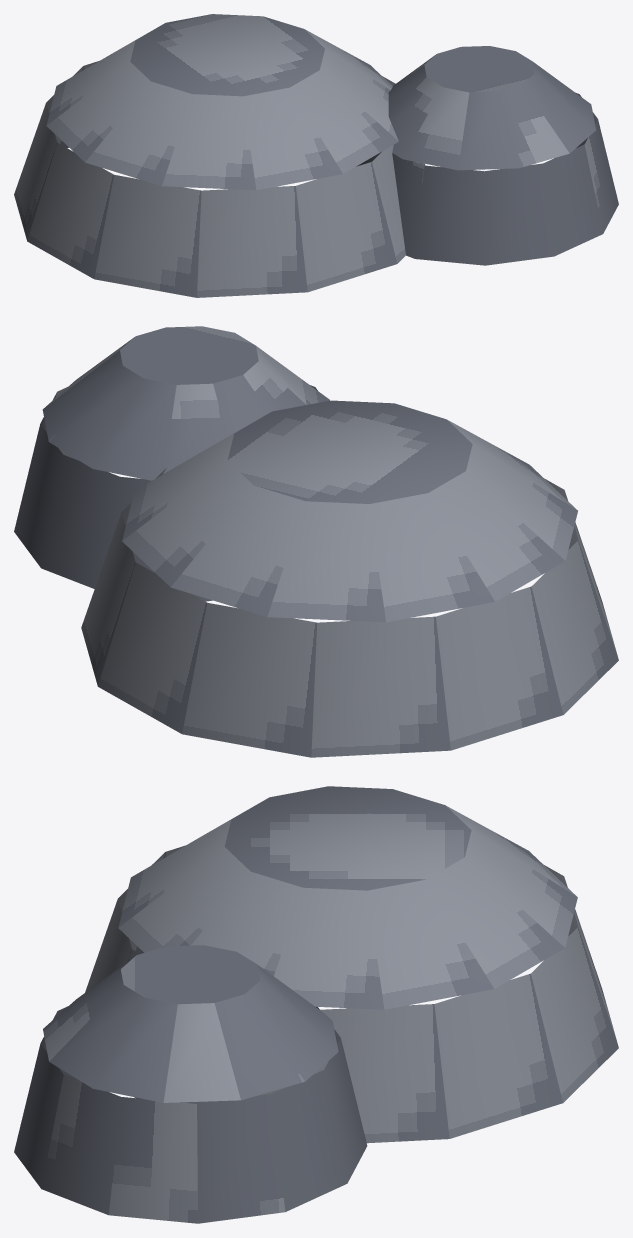
Rendered from rock_0.glb.
3 renders of one model, top to bottom at view 1: azimuth 30°, elevation 25°; view 2: azimuth 150°, elevation 25°; view 3: azimuth 270°, elevation 25°, orthographic. The views are drawn at different scales.
Parts seen in each view (by area): view 1: rock_1; view 2: rock_1; view 3: rock_1.
Part boxes in pixels (x1,y1,x2,y2): rock_1: (14, 14, 618, 297); rock_1: (14, 326, 618, 757); rock_1: (14, 786, 618, 1223).
Size of the model in its own units: 1.17 by 0.3434 by 0.9745.
Materials: 1 (1 with a texture image).
